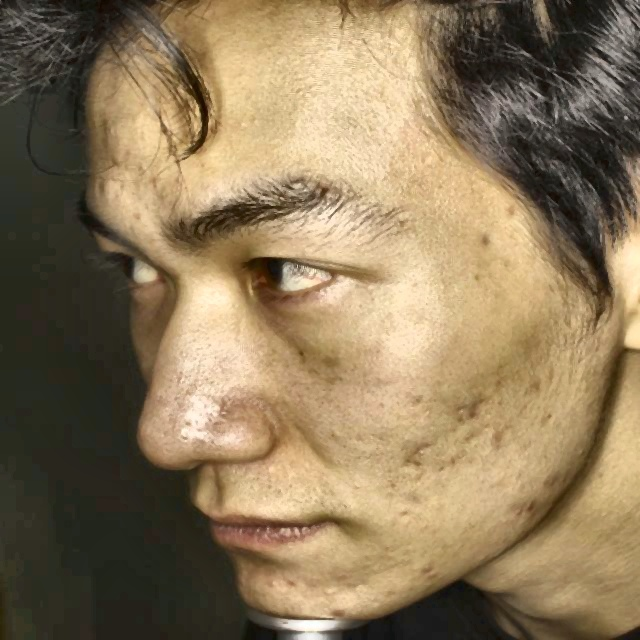comedone: (84, 174, 119, 200), (517, 490, 541, 522), (547, 470, 565, 494)
